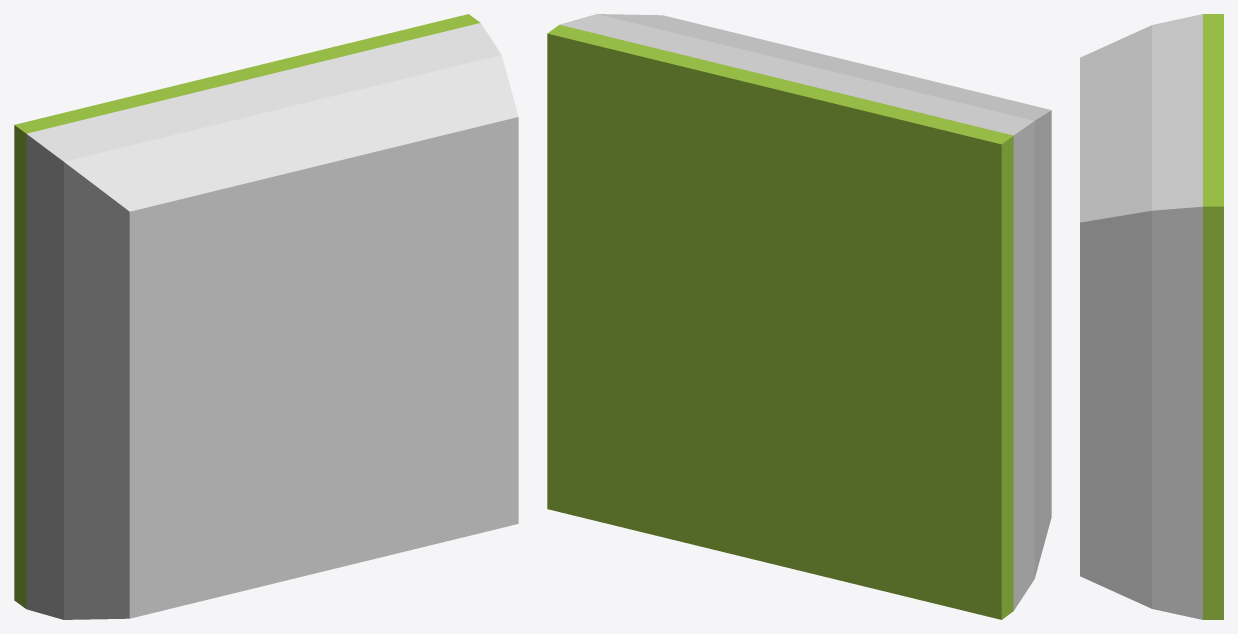
File: terrain square.fbx
3 renders of one model, left to right at view 1: azimuth 30°, elevation 25°; view 2: azimuth 150°, elevation 25°; view 3: azimuth 270°, elevation 25°, orthographic. The views are drawn at different scales.
Visible parts, largest first — view 1: Terrain Square; view 2: Terrain Square; view 3: Terrain Square.
Boxes of the visible parts, x1,y1,x2,y2 form: Terrain Square: (14, 14, 518, 619); Terrain Square: (547, 14, 1051, 619); Terrain Square: (1080, 14, 1223, 619).
Bounding box in the file's own units: 2.51 × 2.51 × 0.792.
